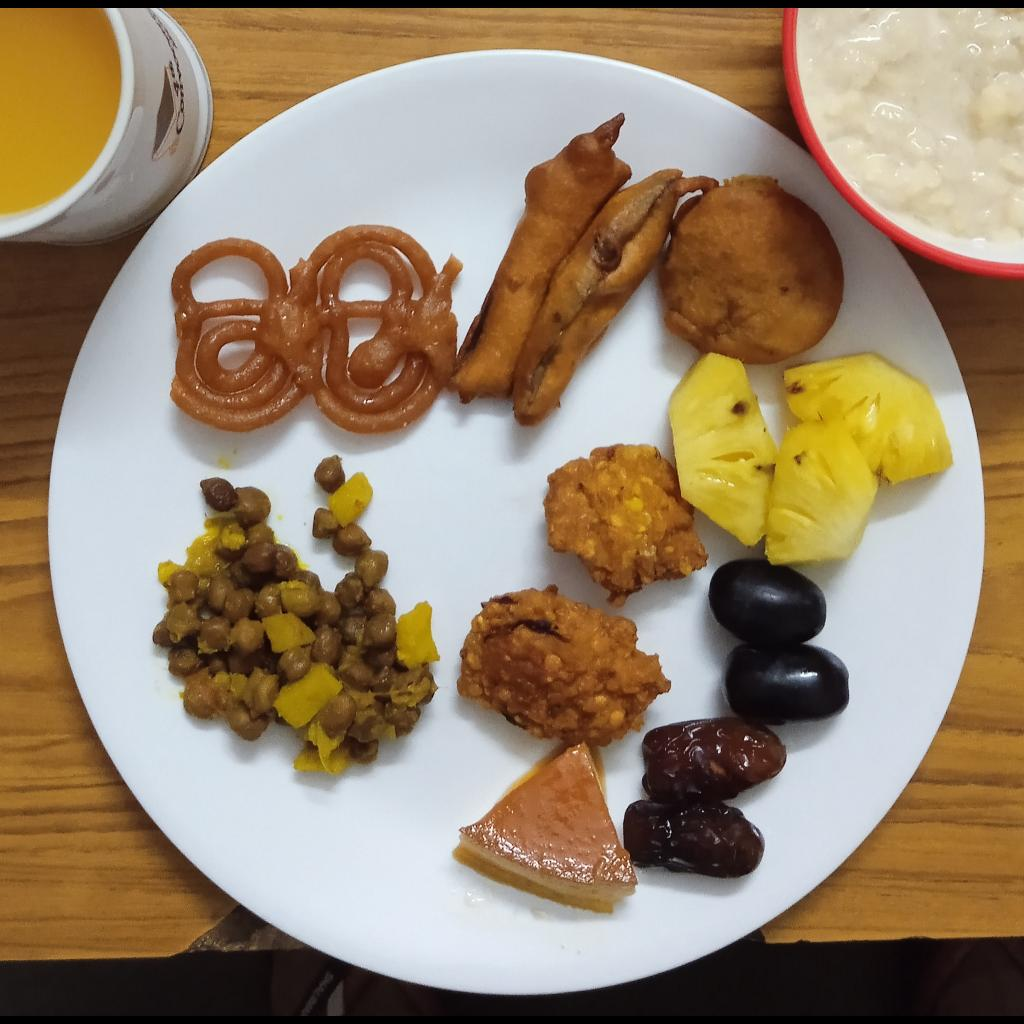beguni: (450, 112, 683, 427)
chola: (153, 455, 441, 774)
chop-alu: (658, 175, 845, 366)
dates: (623, 717, 786, 879), (708, 559, 849, 725)
jilapi: (170, 225, 464, 434)
juice: (0, 8, 120, 214)
payesh: (798, 8, 1024, 245)
pineapple: (669, 352, 954, 563)
piyaju: (455, 590, 672, 747), (542, 443, 709, 608)
sweets: (452, 742, 638, 917)
